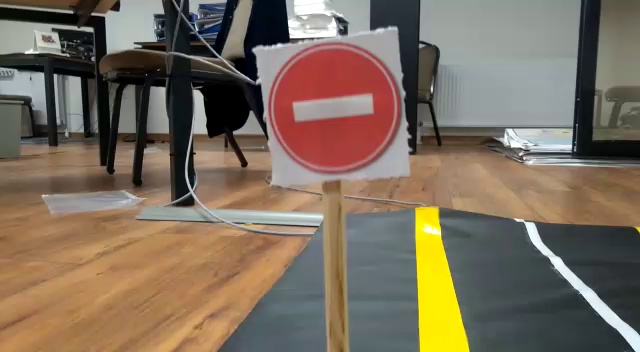girisi_olmayan_yol: (267, 36, 408, 176)
